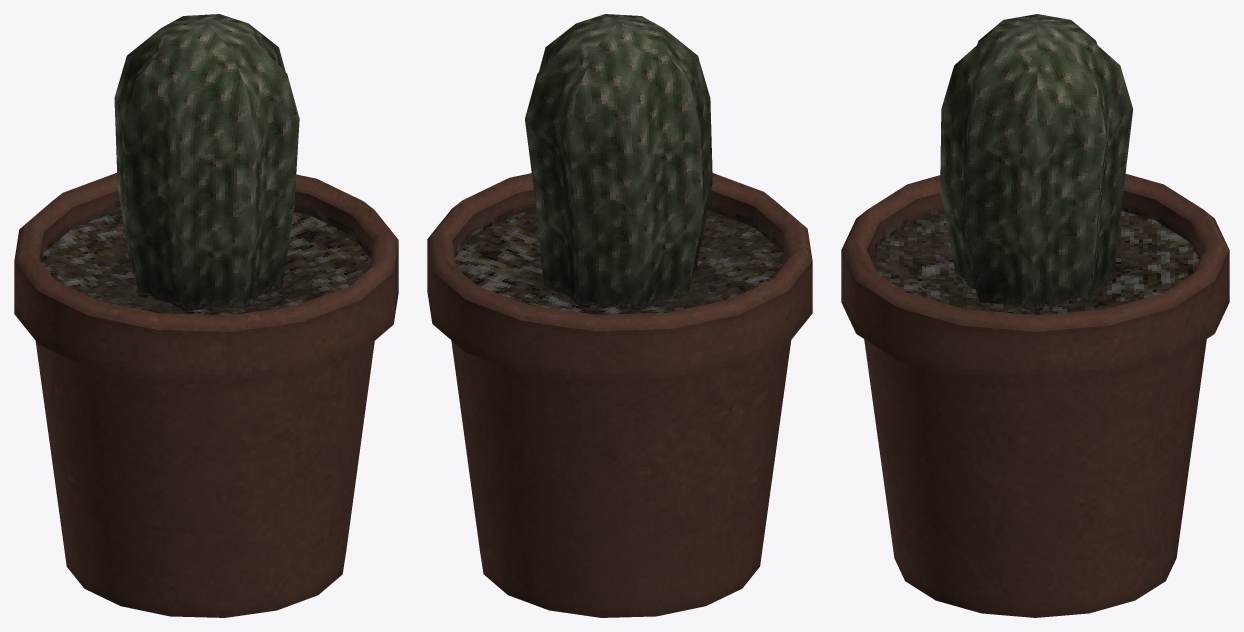
File: potted_cactus_mp_1.glb
3 views of the same model, side by side, from view 1: azimuth 30°, elevation 25°; view 2: azimuth 150°, elevation 25°; view 3: azimuth 270°, elevation 25° (orthographic).
Parts seen in each view (by area): view 1: potted_cactus_mp_1; view 2: potted_cactus_mp_1; view 3: potted_cactus_mp_1.
Boxes of the visible parts, x1,y1,x2,y2 form: potted_cactus_mp_1: (14,14,398,617); potted_cactus_mp_1: (427,14,812,617); potted_cactus_mp_1: (841,14,1229,617).
Size of the model in its own units: 0.176 by 0.2683 by 0.176.
Materials: 1 (1 with a texture image).
